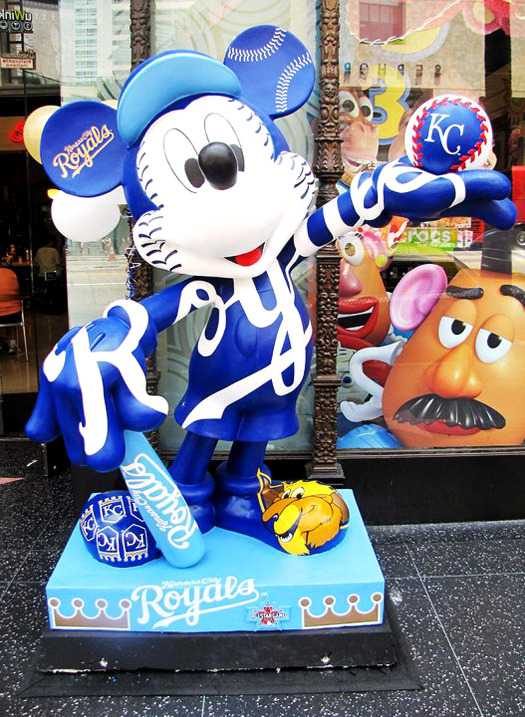Mickey: (40, 23, 316, 282)
